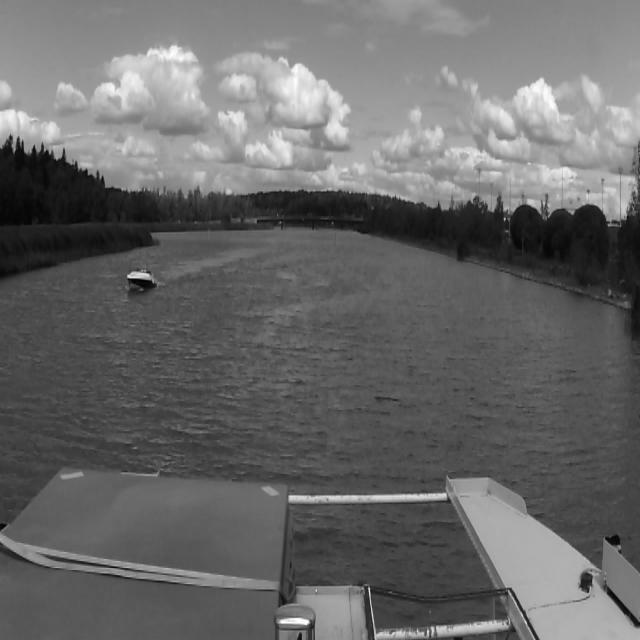buoy: (208, 228, 210, 242)
ship: (127, 268, 157, 295)
